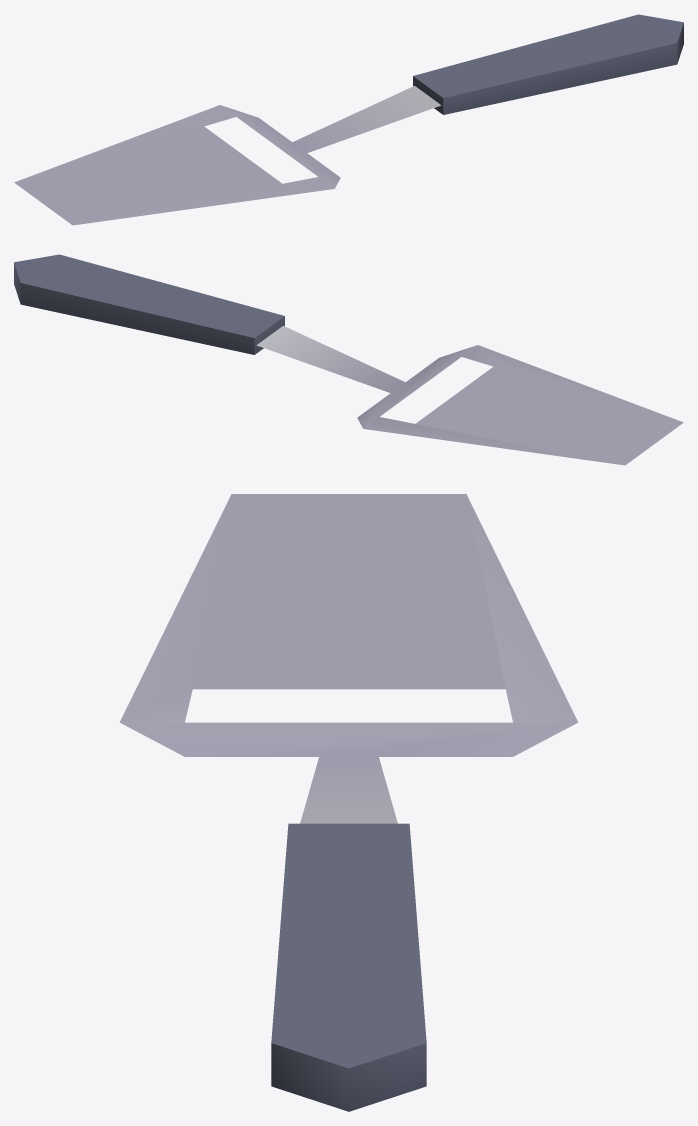
File: cheese-slicer.glb
3 renders of one model, top to bottom at view 1: azimuth 30°, elevation 25°; view 2: azimuth 150°, elevation 25°; view 3: azimuth 270°, elevation 25°, orthographic. The views are drawn at different scales.
Visible parts, largest first — view 1: cheese-slicer; view 2: cheese-slicer; view 3: cheese-slicer.
Part boxes in pixels (bbox=[...]): cheese-slicer: bbox=[14, 14, 683, 225]; cheese-slicer: bbox=[14, 254, 683, 465]; cheese-slicer: bbox=[119, 494, 578, 1111].
Bounding box in the file's own units: 0.6184 × 0.0292 × 0.1918.
